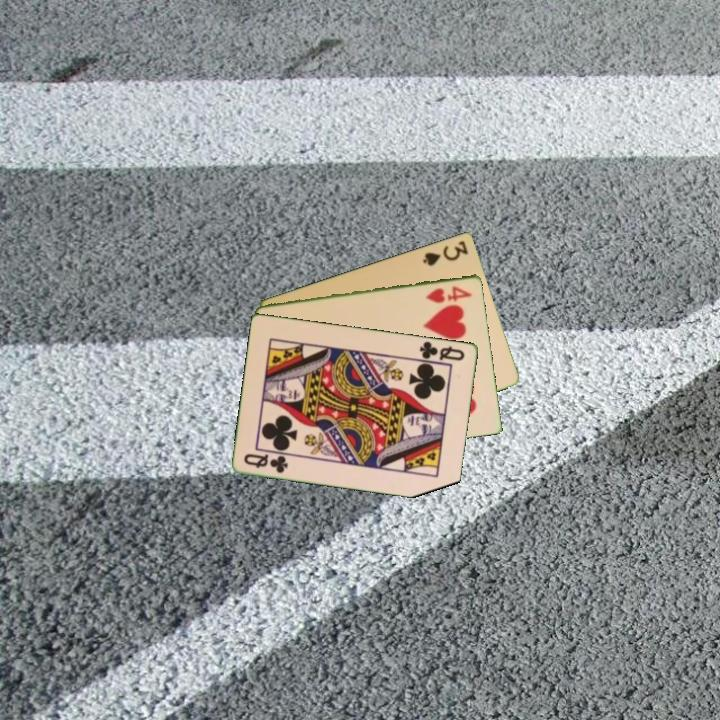3s: (419, 237, 471, 269)
4h: (422, 282, 475, 305)
Qc: (416, 337, 468, 363), (240, 450, 291, 476)
